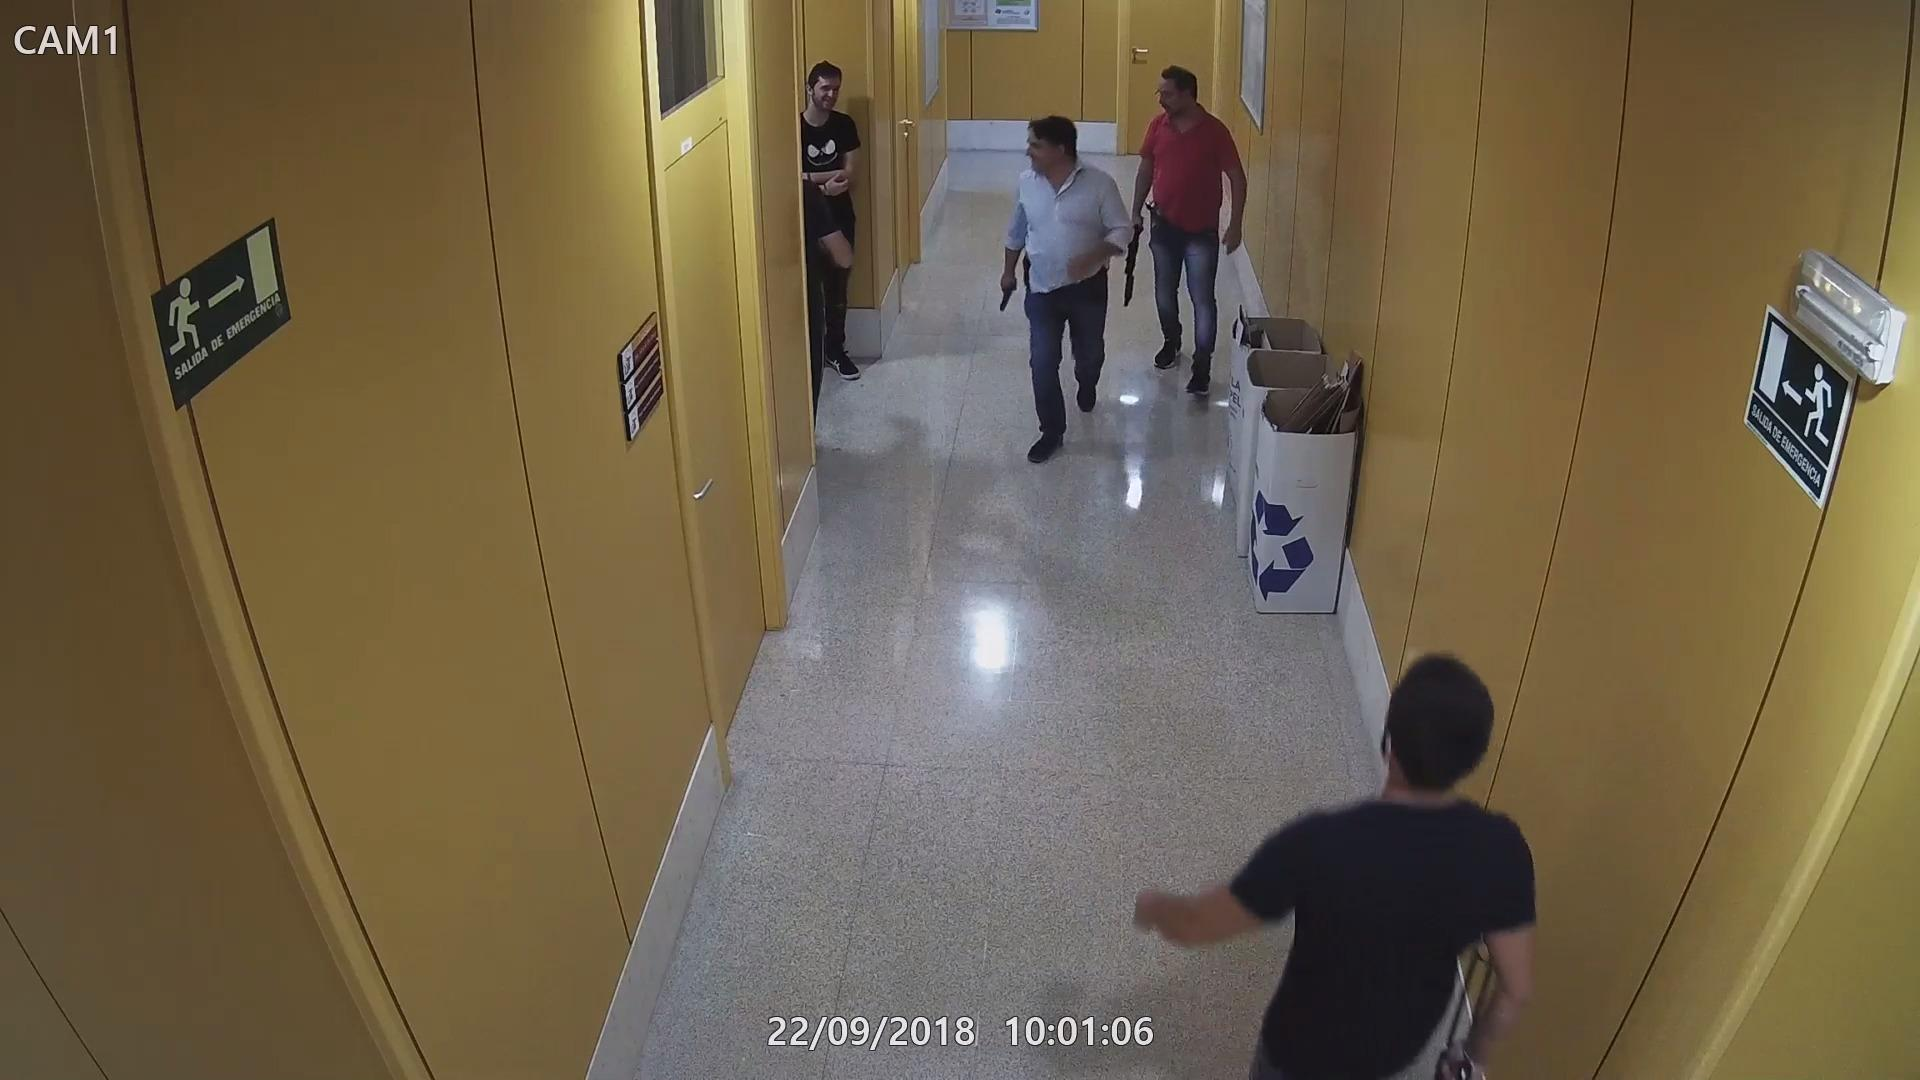Handgun: (992, 272, 1022, 314), (1145, 199, 1171, 243)
